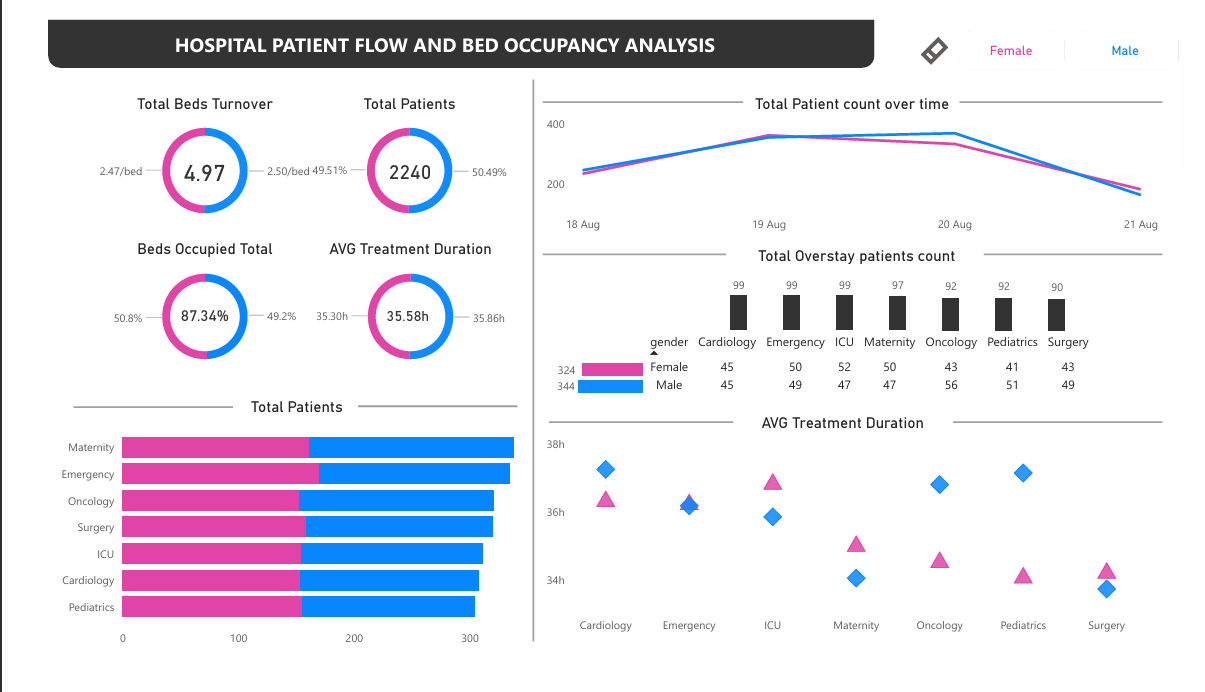

Layout of this report page (visuals, bound fields, positions):
{"tool":"powerbi","page":{"name":"MAIN","canvas":[1280,720],"ordinal":0},"visuals":[{"type":"donutChart","fields":{"Y":["Sum(vw_patient_demographics.total_patients)"],"Category":["vw_patient_demographics.gender"]},"box":[281,82,290,150],"z":0},{"type":"lineChart","fields":{"Y":["Sum(vw_patient_volume_trend.patient_count)"],"Series":["vw_patient_volume_trend.gender"],"Category":["vw_patient_volume_trend.admission_date.Variation.Date Hierarchy.Year","vw_patient_volume_trend.admission_date.Variation.Date Hierarchy.Quarter","vw_patient_volume_trend.admission_date.Variation.Date Hierarchy.Month","vw_patient_volume_trend.admission_date.Variation.Date Hierarchy.Day"]},"box":[571.9,81.7,684.7,162.4],"z":1000},{"type":"barChart","fields":{"Category":["vw_department_inflow.department"],"Y":["Sum(vw_department_inflow.patient_count)"],"Series":["vw_department_inflow.gender"]},"box":[32,417,539,284],"z":2000},{"type":"pivotTable","fields":{"Values":["Sum(vw_overstay_patients.overstay_count)"],"Rows":["vw_overstay_patients.gender"],"Columns":["vw_overstay_patients.department"]},"box":[681,340,559,79],"z":3000},{"type":"donutChart","fields":{"Category":["vw_bed_turnover_rate.gender"],"Y":["Sum(vw_bed_turnover_rate.bed_turnover_rate)"]},"box":[55,82,290,150],"z":4000},{"type":"advancedSlicerVisual","fields":{"Values":["dim_patient.gender"]},"box":[1026,8,254,52],"z":5000},{"type":"scatterChart","fields":{"X":["vw_avg_treatment_duration.department"],"Y":["Sum(vw_avg_treatment_duration.avg_treatment_duration)"],"Series":["vw_avg_treatment_duration.gender"]},"box":[572,435,664,251],"z":6000},{"type":"clusteredBarChart","fields":{"Category":["vw_overstay_patients.gender"],"Y":["Sum(vw_overstay_patients.overstay_count)"]},"box":[584,357,105,70],"z":7000},{"type":"clusteredColumnChart","fields":{"Category":["vw_overstay_patients.department"],"Y":["Sum(vw_overstay_patients.overstay_count)"]},"box":[775,274,382,75],"z":8000},{"type":"card","fields":{"Values":["Sum(vw_patient_demographics.total_patients)"]},"box":[357,142,139,51],"z":9000},{"type":"card","fields":{"Values":["Sum(vw_bed_turnover_rate.bed_turnover_rate)"]},"box":[106,127,187,81],"z":10000},{"type":"donutChart","fields":{"Y":["Avg(vw_avg_treatment_duration.avg_treatment_duration)"],"Category":["vw_avg_treatment_duration.gender"]},"box":[282.1,243.3,290,150],"z":11000},{"type":"donutChart","fields":{"Series":["vw_bed_occupancy.gender"],"Y":["Sum(vw_bed_occupancy.bed_occupancy_percent)"]},"box":[55,243,290,150],"z":12000},{"type":"card","fields":{"Values":["Avg(vw_avg_treatment_duration.avg_treatment_duration)"]},"box":[369,302.2,114.4,52.2],"z":13000},{"type":"card","fields":{"Values":["Sum(vw_bed_occupancy.bed_occupancy_percent)"]},"box":[129.8,301.1,144.4,53.3],"z":14000},{"type":"shape","box":[27,0,912,53],"z":15000},{"type":"textbox","box":[659.5,250,520.4,29.2],"z":16000},{"type":"textbox","box":[26.7,8.3,876.7,38.3],"z":17000},{"type":"shape","box":[545,66,35,620],"z":18000},{"type":"shape","box":[368.6,417.3,176,18.5],"z":19000},{"type":"shape","box":[1060.2,250,196.5,18.5],"z":20000},{"type":"shape","box":[579.7,434.8,203.3,18.5],"z":21000},{"type":"shape","box":[55.4,418.2,176,18.5],"z":22000},{"type":"shape","box":[572.9,81.7,220.8,18.5],"z":23000},{"type":"shape","box":[1032.9,81.7,223.7,18.5],"z":24000},{"type":"shape","box":[572.9,250,202.3,18.5],"z":25000},{"type":"shape","box":[1026.1,434.8,230.5,18.5],"z":26000},{"type":"actionButton","box":[987.2,15.6,38.9,37],"z":27000}]}

Visuals, with their boxes in screenshot pixels (x1, y1, x2, y2), scaled from the page's 1280x720 canvas onto the 1205x692 screenshot:
donutChart - Sum(vw_patient_demographics.total_patients) x vw_patient_demographics.gender: x1=265 y1=79 x2=538 y2=223
lineChart - Sum(vw_patient_volume_trend.patient_count) x vw_patient_volume_trend.gender: x1=538 y1=79 x2=1183 y2=235
barChart - vw_department_inflow.department x Sum(vw_department_inflow.patient_count): x1=30 y1=401 x2=538 y2=674
pivotTable - Sum(vw_overstay_patients.overstay_count) x vw_overstay_patients.gender: x1=641 y1=327 x2=1167 y2=403
donutChart - vw_bed_turnover_rate.gender x Sum(vw_bed_turnover_rate.bed_turnover_rate): x1=52 y1=79 x2=325 y2=223
advancedSlicerVisual - dim_patient.gender: x1=966 y1=8 x2=1204 y2=58
scatterChart - vw_avg_treatment_duration.department x Sum(vw_avg_treatment_duration.avg_treatment_duration): x1=538 y1=418 x2=1164 y2=659
clusteredBarChart - vw_overstay_patients.gender x Sum(vw_overstay_patients.overstay_count): x1=550 y1=343 x2=649 y2=410
clusteredColumnChart - vw_overstay_patients.department x Sum(vw_overstay_patients.overstay_count): x1=730 y1=263 x2=1089 y2=335
card - Sum(vw_patient_demographics.total_patients): x1=336 y1=136 x2=467 y2=185
card - Sum(vw_bed_turnover_rate.bed_turnover_rate): x1=100 y1=122 x2=276 y2=200
donutChart - Avg(vw_avg_treatment_duration.avg_treatment_duration) x vw_avg_treatment_duration.gender: x1=266 y1=234 x2=539 y2=378
donutChart - vw_bed_occupancy.gender x Sum(vw_bed_occupancy.bed_occupancy_percent): x1=52 y1=234 x2=325 y2=378
card - Avg(vw_avg_treatment_duration.avg_treatment_duration): x1=347 y1=290 x2=455 y2=341
card - Sum(vw_bed_occupancy.bed_occupancy_percent): x1=122 y1=289 x2=258 y2=341
shape: x1=25 y1=0 x2=884 y2=51
textbox: x1=621 y1=240 x2=1111 y2=268
textbox: x1=25 y1=8 x2=850 y2=45
shape: x1=513 y1=63 x2=546 y2=659
shape: x1=347 y1=401 x2=513 y2=419
shape: x1=998 y1=240 x2=1183 y2=258
shape: x1=546 y1=418 x2=737 y2=436
shape: x1=52 y1=402 x2=218 y2=420
shape: x1=539 y1=79 x2=747 y2=96
shape: x1=972 y1=79 x2=1183 y2=96
shape: x1=539 y1=240 x2=730 y2=258
shape: x1=966 y1=418 x2=1183 y2=436
actionButton: x1=929 y1=15 x2=966 y2=51
